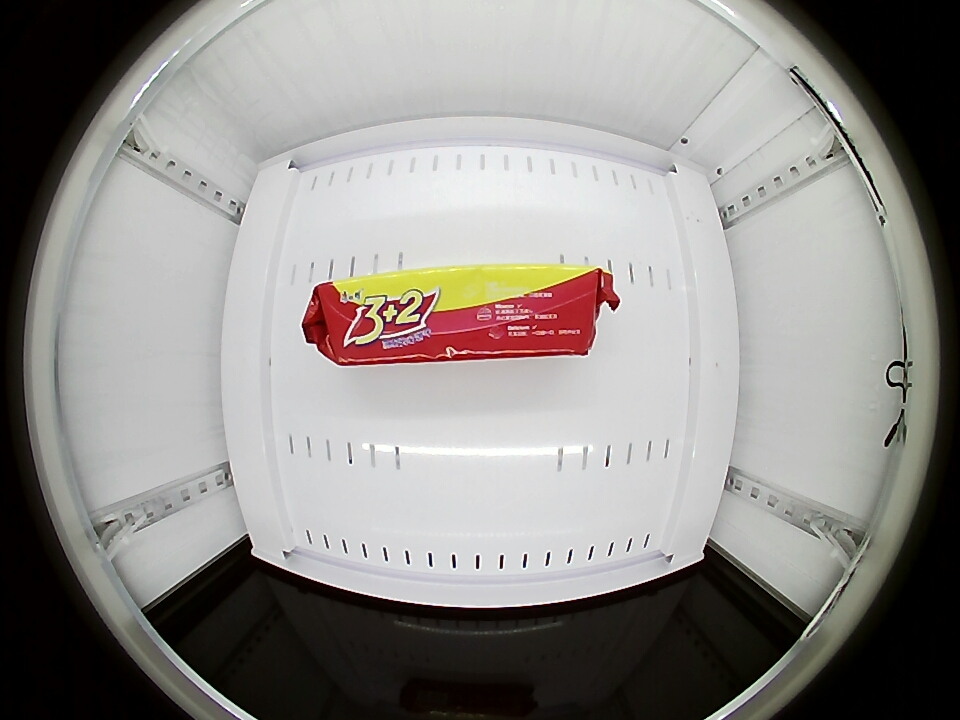3jia2: (315, 266, 600, 364)
